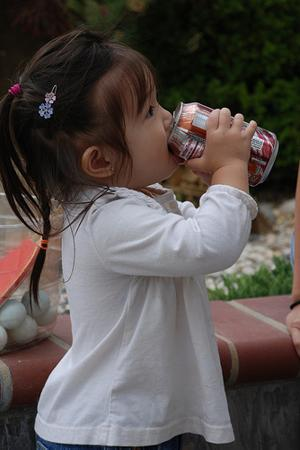person: (1, 27, 260, 450)
